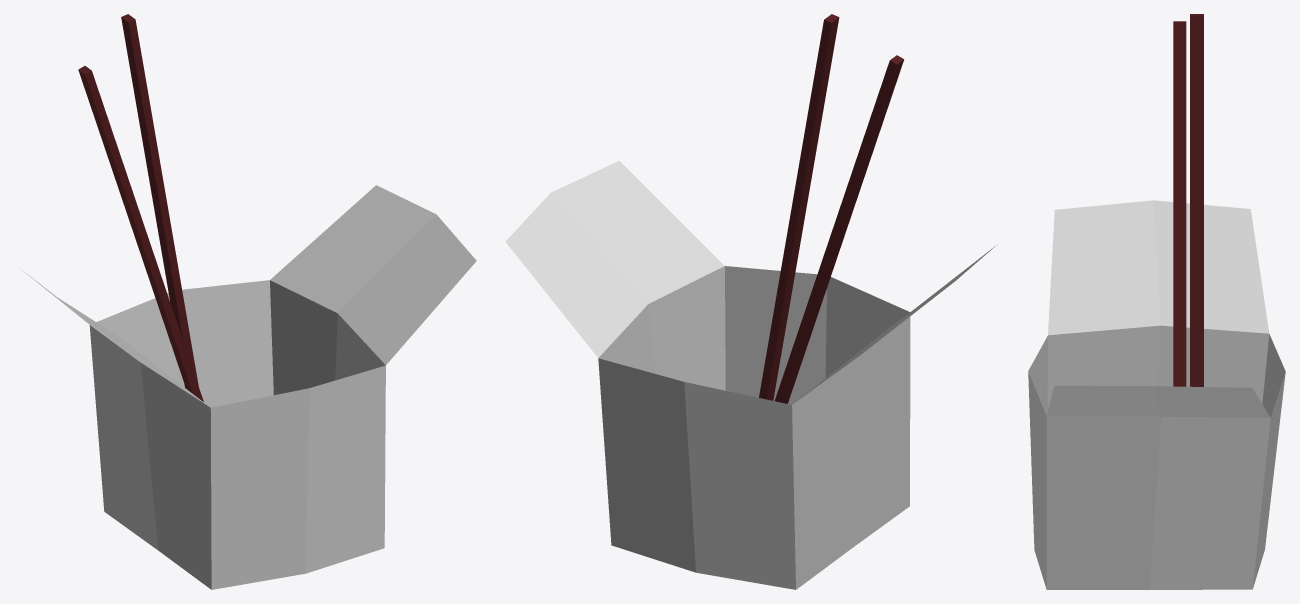
The model's file is Takeoutbox.glb.
3 renders of one model, left to right at view 1: azimuth 30°, elevation 25°; view 2: azimuth 150°, elevation 25°; view 3: azimuth 270°, elevation 25°, orthographic. The views are drawn at different scales.
Visible parts, largest first — view 1: Cube.003; view 2: Cube.003; view 3: Cube.003.
Boxes of the visible parts, left/top/right/bottom form: Cube.003: left=17, top=14, right=476, bottom=589; Cube.003: left=505, top=14, right=997, bottom=589; Cube.003: left=1028, top=14, right=1285, bottom=589.
Size of the model in its own units: 4.57 by 5.94 by 2.82.
